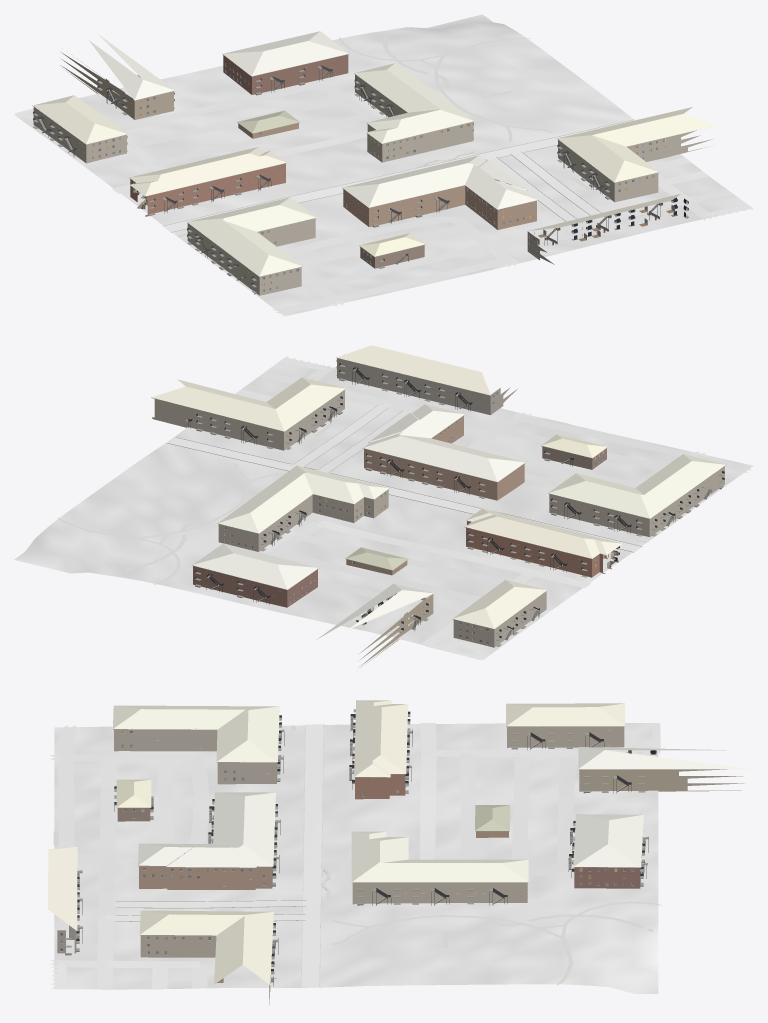
The picture shows the model from 3 angles, top to bottom: view 1: azimuth 30°, elevation 25°; view 2: azimuth 150°, elevation 25°; view 3: azimuth 270°, elevation 25°; orthographic projection. The views are drawn at different scales.
Visible parts, largest first — view 1: ground, roof, wall, concrete, detail, asphalt, walk, rail, curb, glass, room; view 2: ground, roof, wall, concrete, detail, asphalt, rail, walk, curb; view 3: ground, roof, concrete, wall, asphalt, detail, walk, curb, rail, glass.
Boxes of the visible parts, x1=… form: ground: x1=14, y1=14, x2=752, y2=316; roof: x1=33, y1=31, x2=717, y2=276; wall: x1=33, y1=52, x2=712, y2=295; concrete: x1=15, y1=83, x2=753, y2=313; detail: x1=32, y1=53, x2=693, y2=294; asphalt: x1=163, y1=120, x2=633, y2=232; walk: x1=177, y1=32, x2=634, y2=274; rail: x1=33, y1=65, x2=688, y2=284; curb: x1=163, y1=120, x2=632, y2=232; glass: x1=92, y1=64, x2=664, y2=290; room: x1=92, y1=75, x2=674, y2=291; ground: x1=14, y1=357, x2=753, y2=659; roof: x1=151, y1=345, x2=725, y2=639; wall: x1=152, y1=358, x2=724, y2=667; concrete: x1=235, y1=356, x2=750, y2=659; detail: x1=151, y1=357, x2=725, y2=646; asphalt: x1=168, y1=437, x2=641, y2=551; rail: x1=188, y1=360, x2=724, y2=637; walk: x1=57, y1=418, x2=646, y2=584; curb: x1=167, y1=405, x2=641, y2=552; ground: x1=54, y1=723, x2=658, y2=993; roof: x1=48, y1=700, x2=752, y2=984; concrete: x1=49, y1=723, x2=660, y2=988; wall: x1=57, y1=726, x2=744, y2=1004; asphalt: x1=301, y1=724, x2=323, y2=986; detail: x1=60, y1=709, x2=656, y2=986; walk: x1=53, y1=725, x2=661, y2=987; curb: x1=115, y1=724, x2=329, y2=986; rail: x1=76, y1=711, x2=656, y2=978; glass: x1=60, y1=730, x2=634, y2=954.
Bounding box in the file's own units: 272 × 20.88 × 306.
